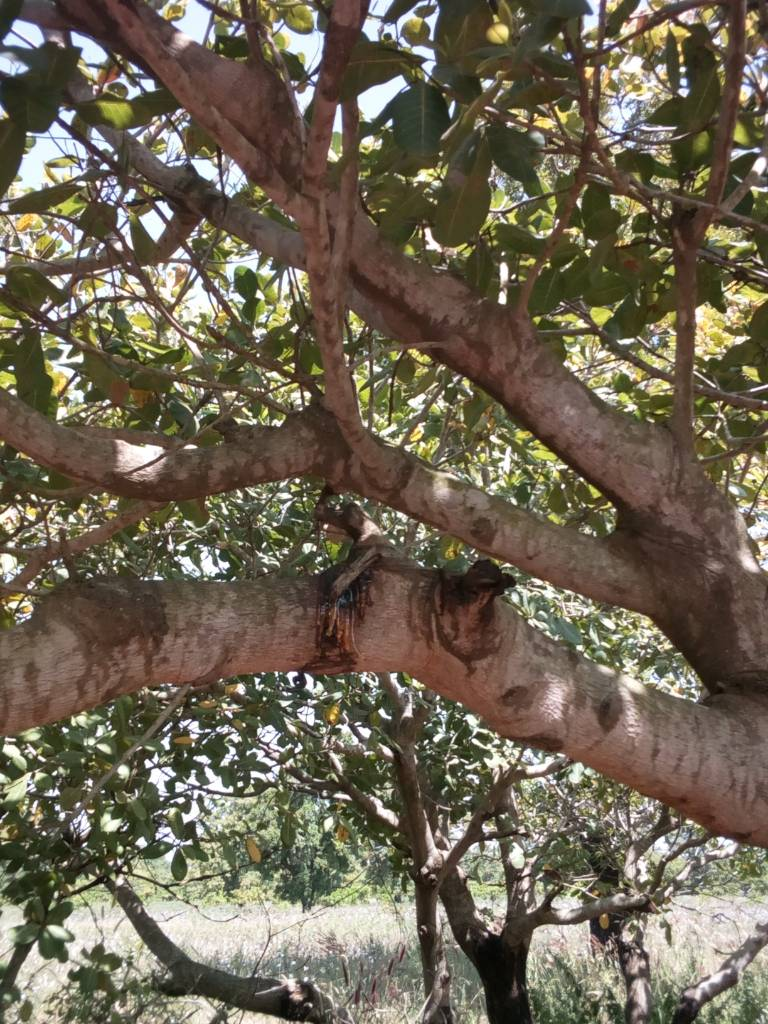Gommose: (321, 558, 366, 667)
